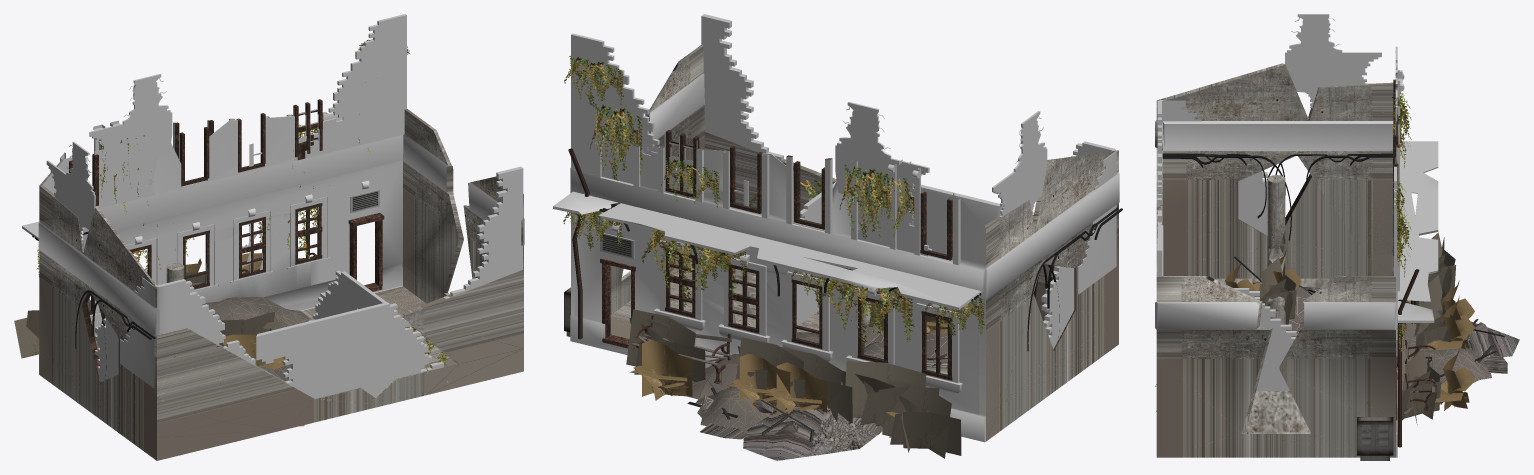
File: greenhouse2 LOD0.fbx
3 views of the same model, side by side, from view 1: azimuth 30°, elevation 25°; view 2: azimuth 150°, elevation 25°; view 3: azimuth 270°, elevation 25° (orthographic). The views are drawn at different scales.
Visible parts, largest first — view 1: polymsh74; view 2: polymsh74; view 3: polymsh74.
Boxes of the visible parts, bbox=[...] form: polymsh74: bbox=[14, 14, 524, 460]; polymsh74: bbox=[553, 14, 1122, 460]; polymsh74: bbox=[1155, 14, 1519, 460].
Bounding box in the file's own units: 9.33 × 6.58 × 7.71.
